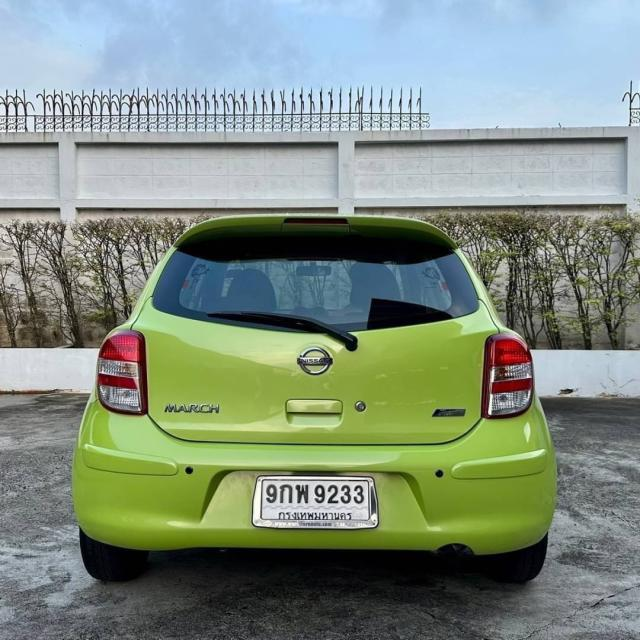license_plate: (252, 470, 380, 530)
